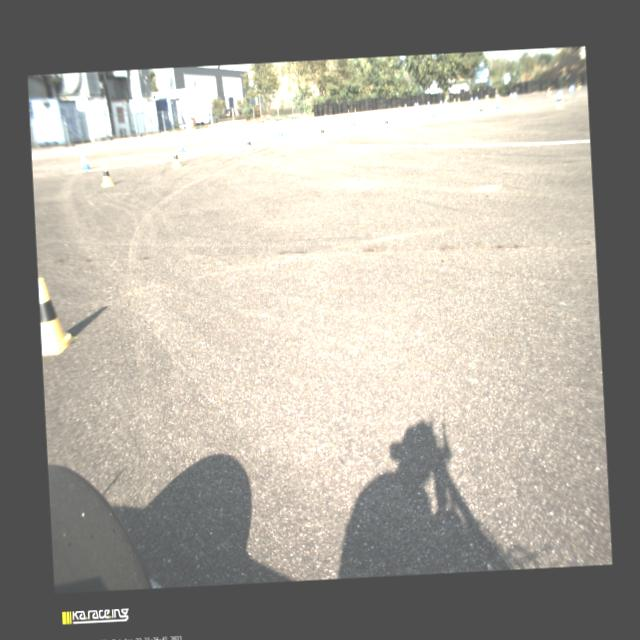blue_cone: (81, 154, 91, 169), (178, 138, 185, 152), (494, 98, 502, 110), (277, 125, 284, 136), (350, 115, 356, 126), (430, 105, 436, 116), (474, 97, 478, 104), (513, 93, 516, 100), (404, 104, 407, 110), (414, 102, 417, 108), (570, 86, 572, 94), (470, 98, 473, 103), (416, 102, 418, 108), (427, 102, 430, 106), (444, 100, 447, 104), (440, 101, 442, 106)
yellow_cone: (38, 276, 72, 354), (100, 162, 114, 187), (171, 148, 181, 168), (244, 136, 254, 152), (555, 95, 564, 109), (477, 104, 485, 119), (384, 116, 391, 131), (319, 126, 326, 140), (546, 89, 550, 96), (484, 96, 488, 102), (454, 98, 456, 105), (458, 98, 460, 104)
